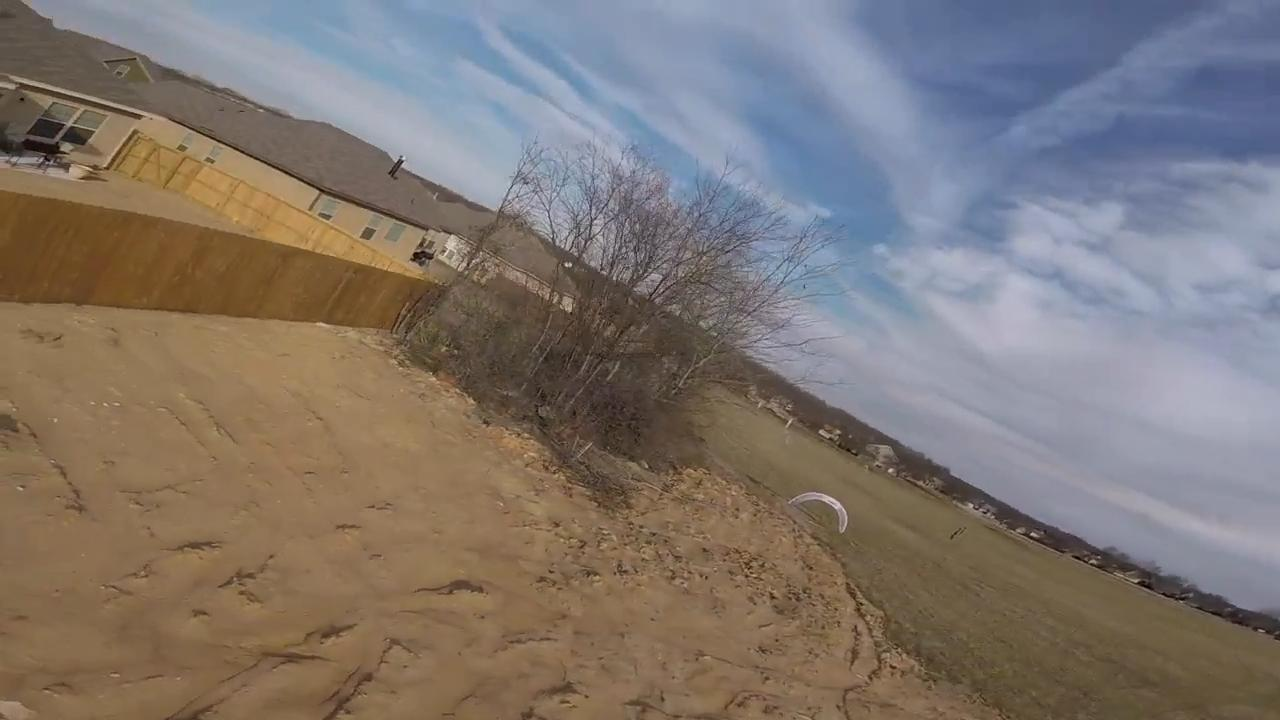gate: (788, 489, 848, 536)
